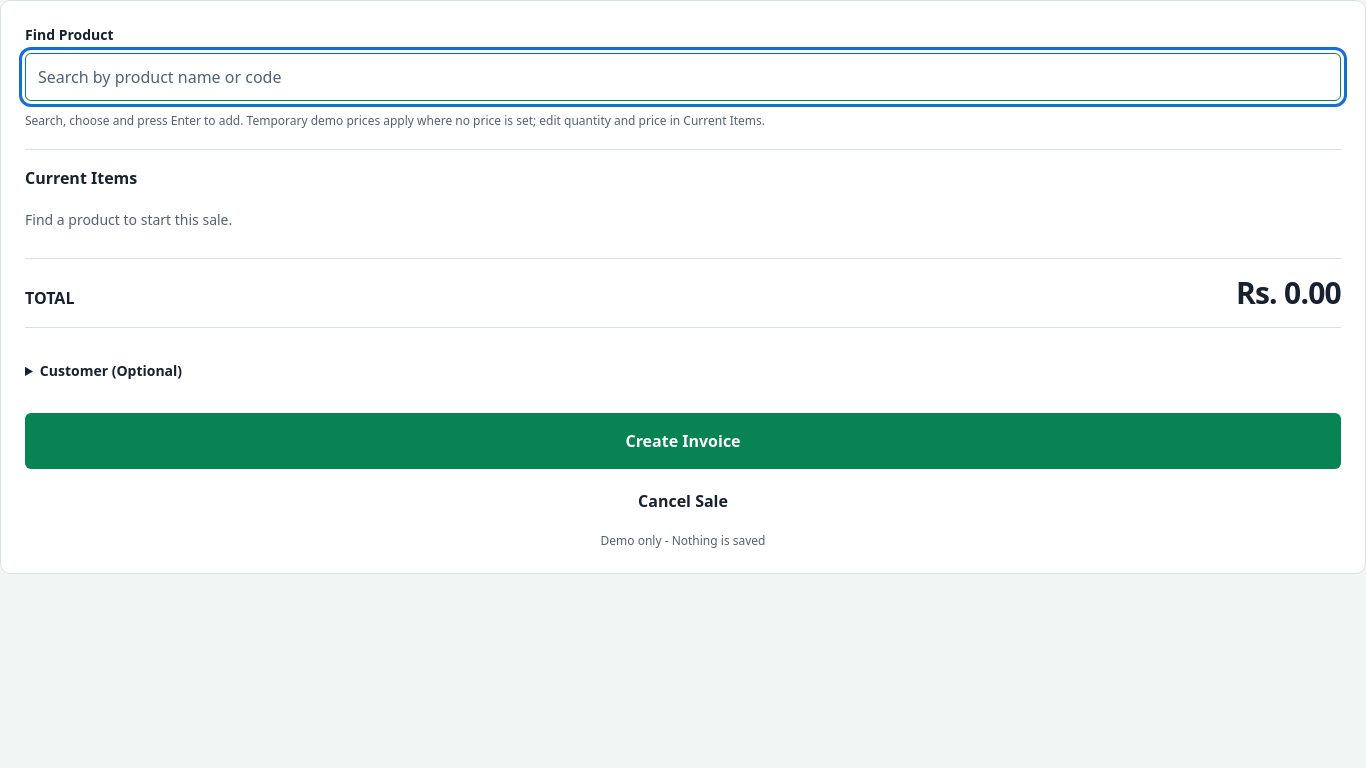
Test: blocks invalid discount -1
In the dropdown: (683, 77) x1=25 y1=53 x2=1341 y2=101, type "dia"
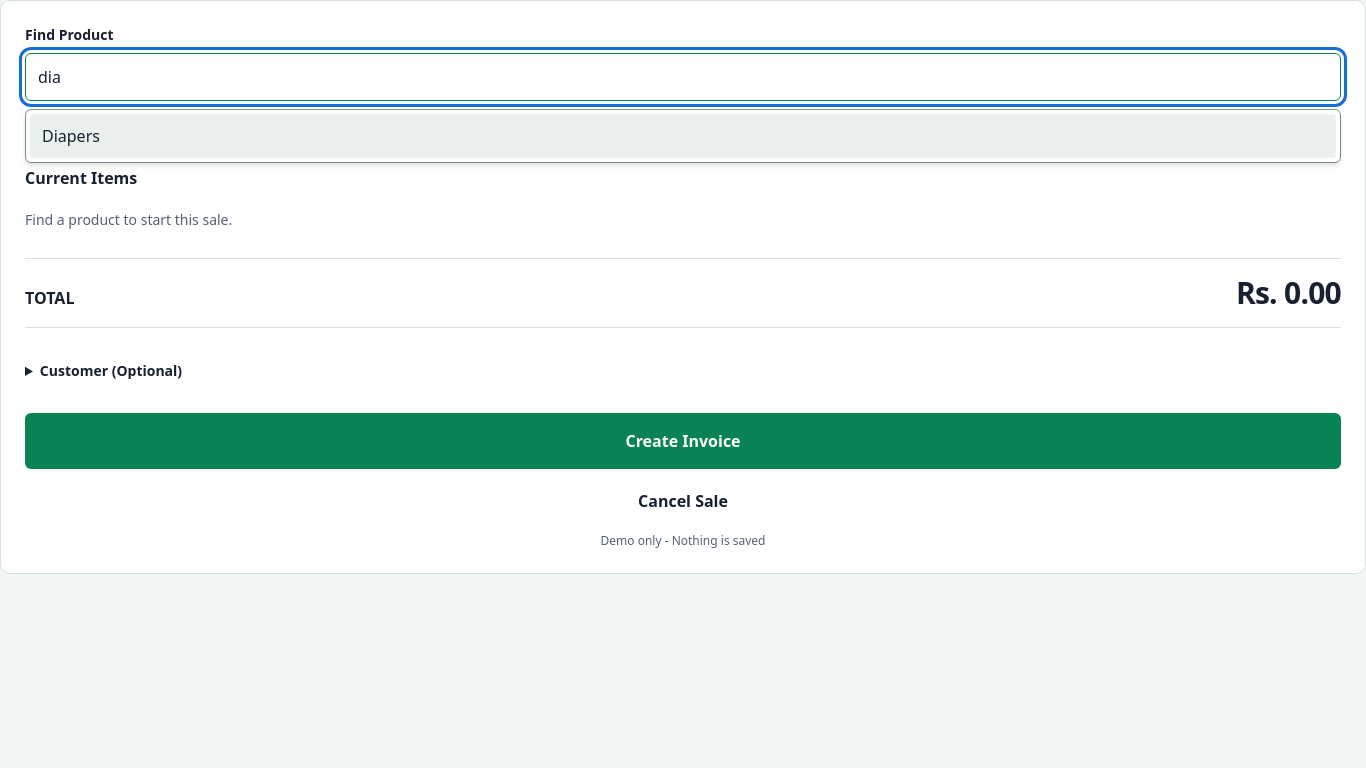
Press Enter in the dropdown, box x1=25 y1=53 x2=1341 y2=101
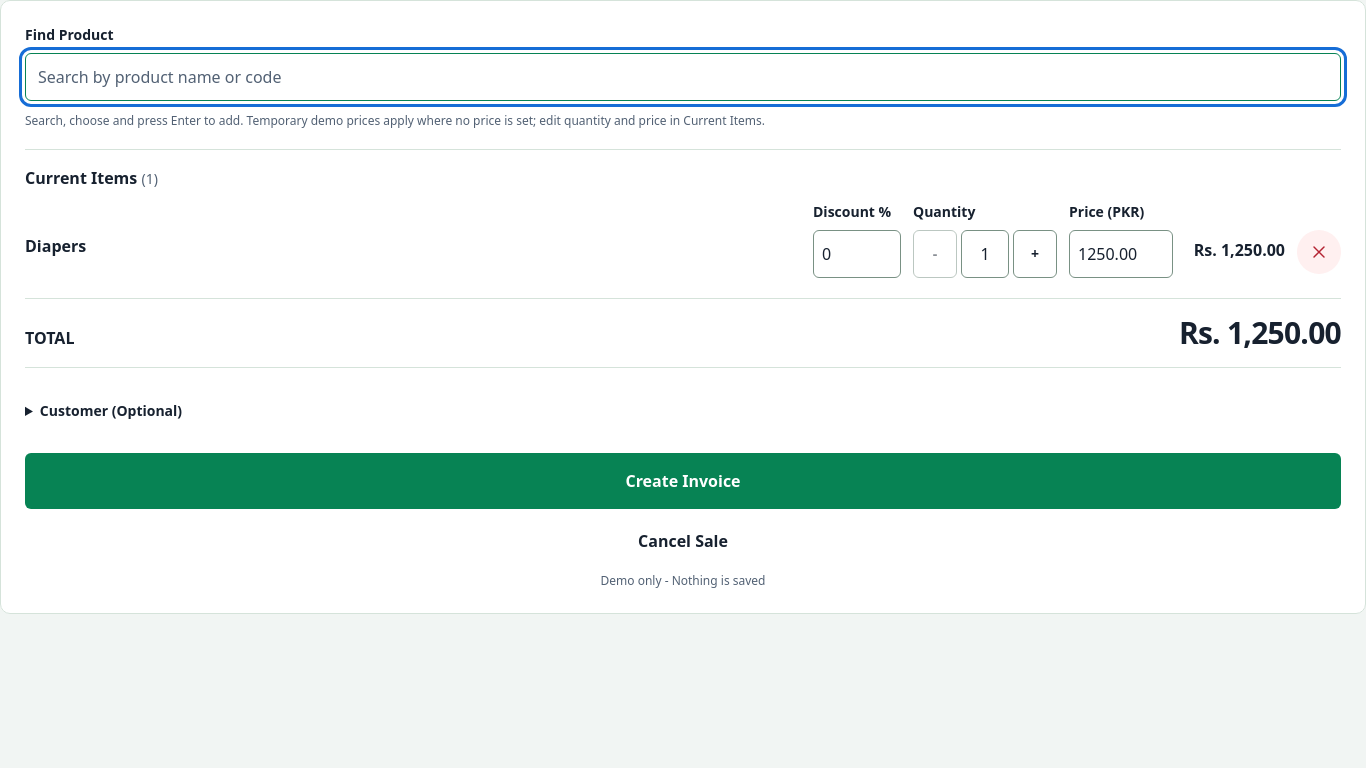
Replace the text in the field named "Diapers quantity, item 1" with "2": (985, 254) x1=961 y1=230 x2=1009 y2=278
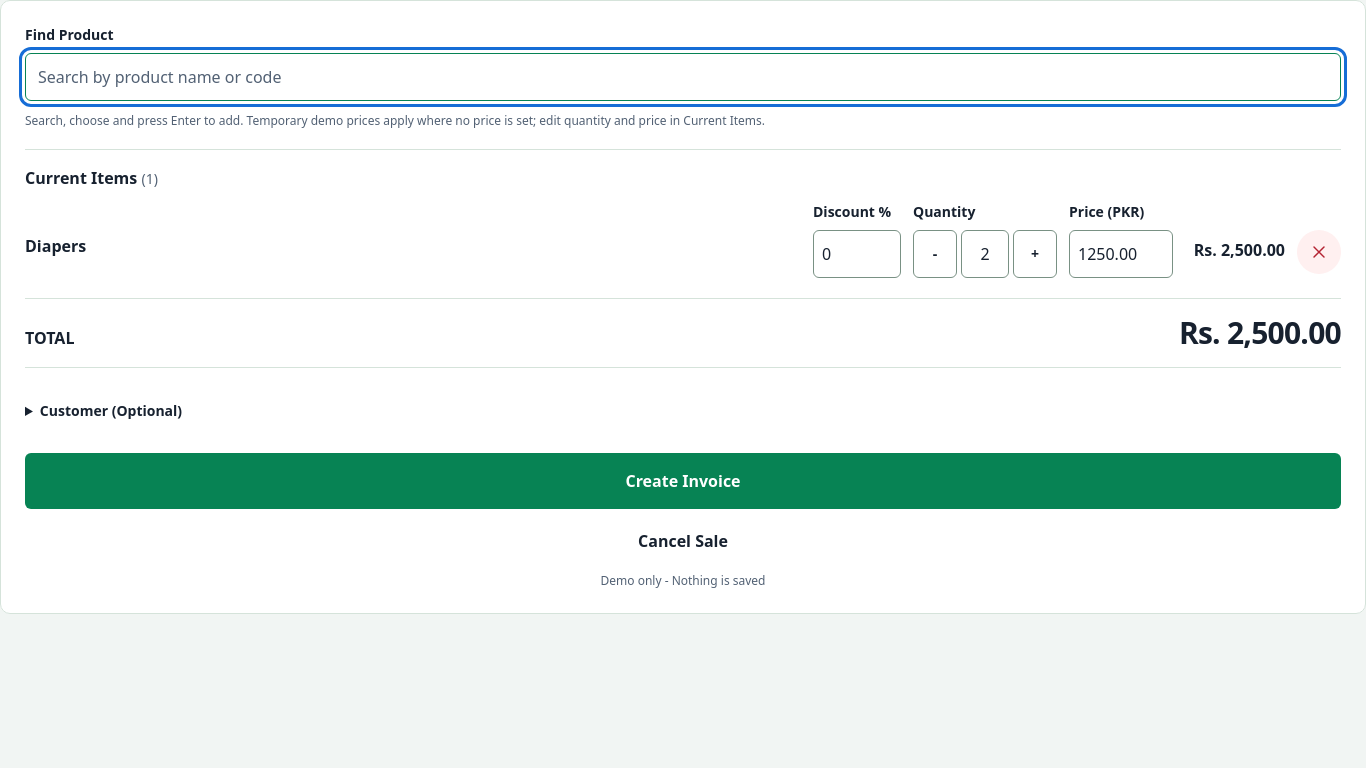
Replace the text in the field named "Diapers price (PKR), item 1" with "1200": (1121, 254) x1=1069 y1=230 x2=1173 y2=278
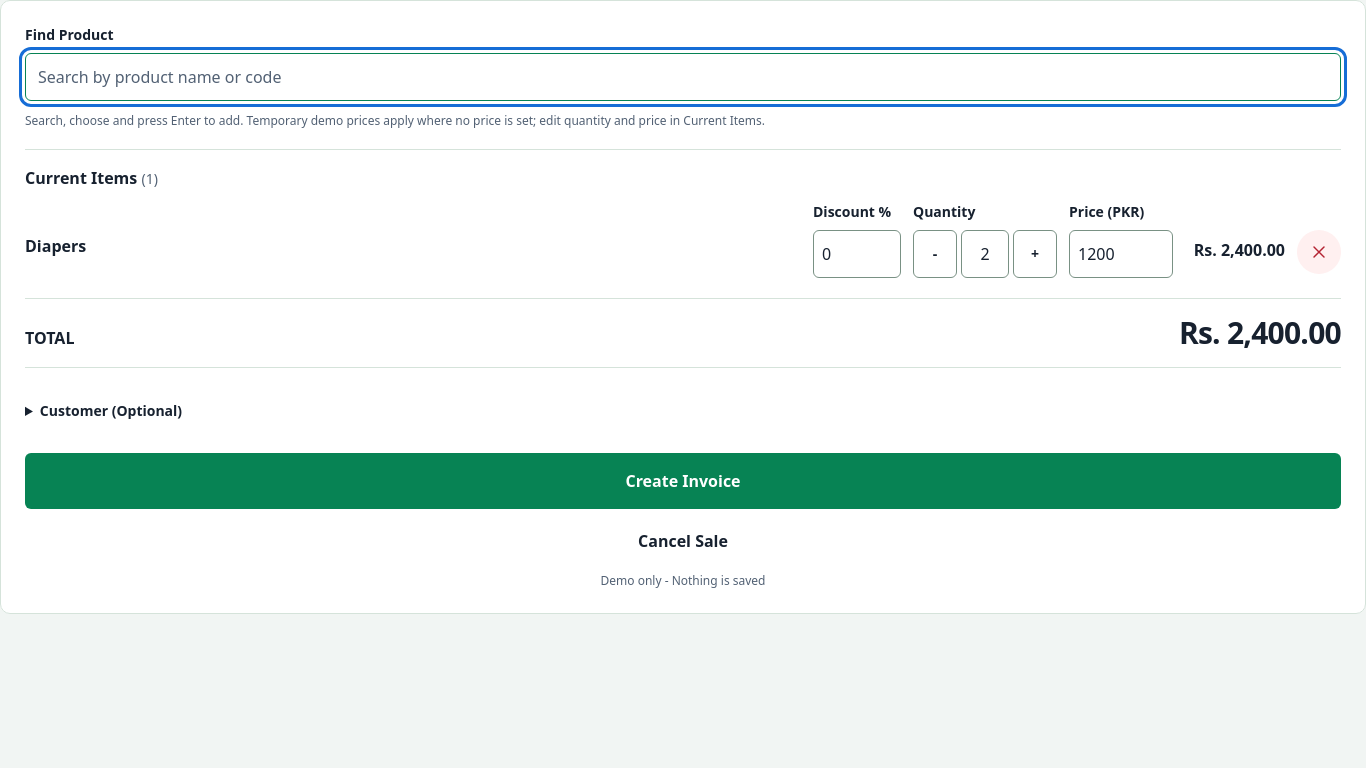
In the field named "Diapers discount (%), item 1": (857, 254) x1=813 y1=230 x2=901 y2=278, type "-1"
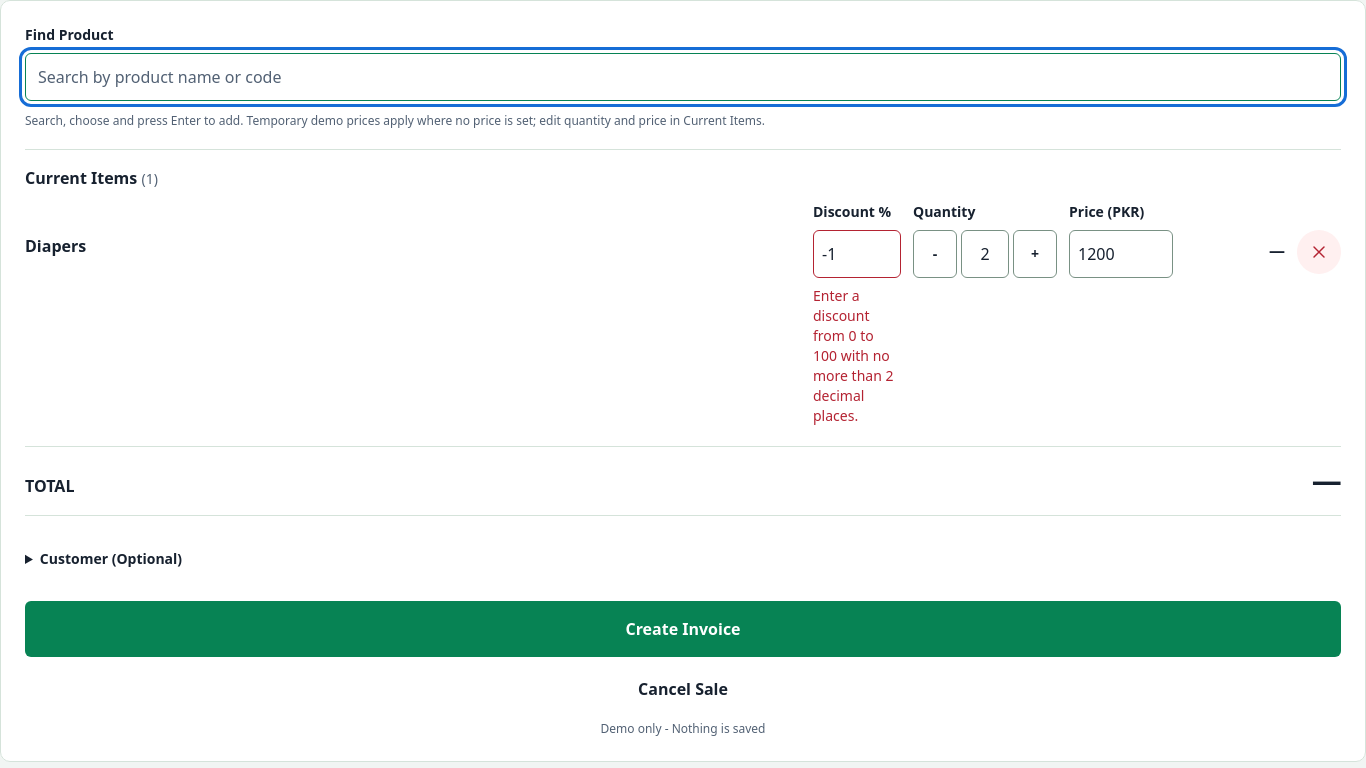
Submit the form named "Make a sale preview"
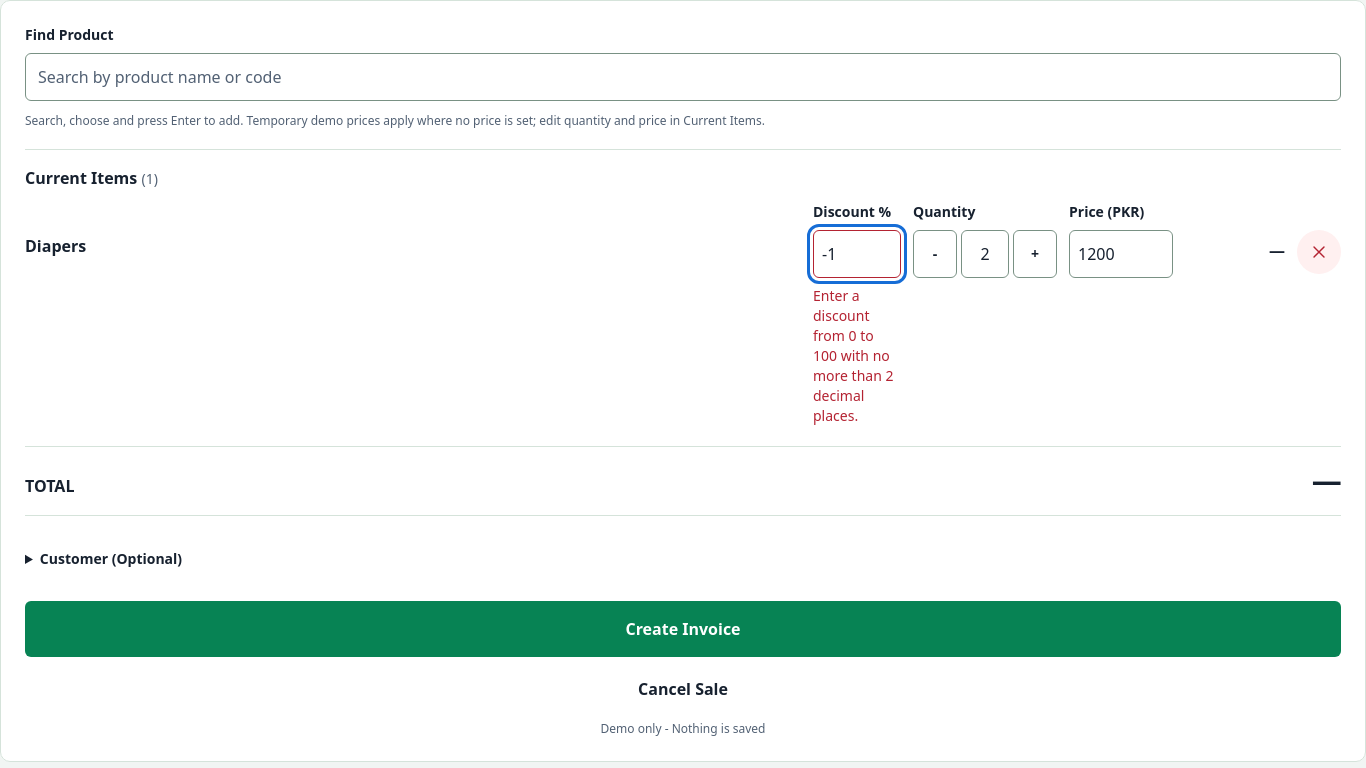
Expected: the field named "Diapers discount (%), item 1" is marked as invalid, x1=813 y1=230 x2=901 y2=278
